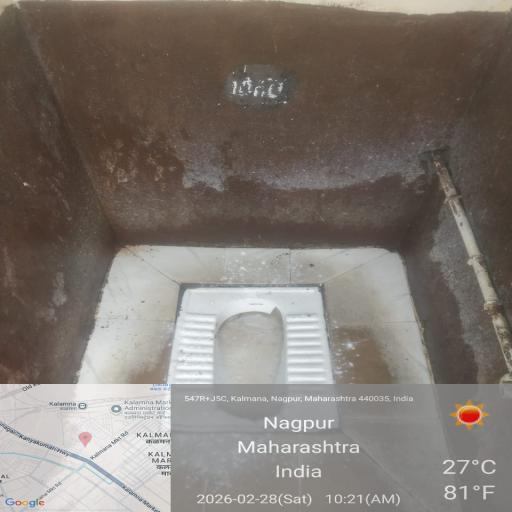dirty_floor: (48, 217, 509, 512), (51, 35, 422, 203)
dirty_indian: (162, 262, 392, 466)
